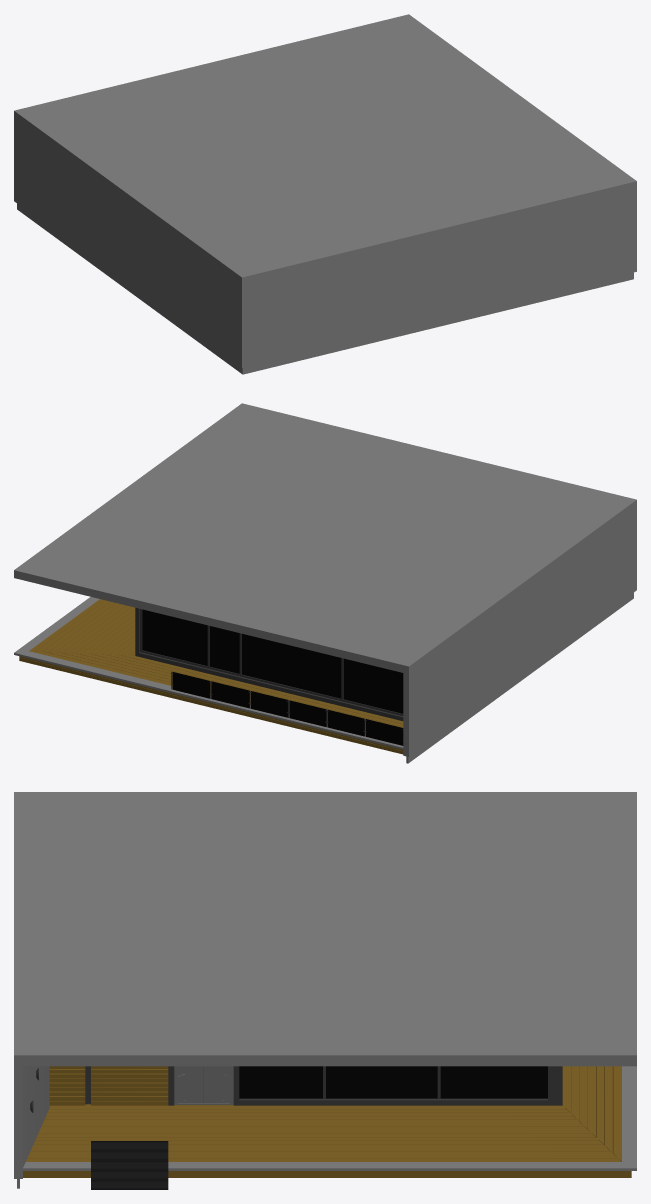
Rendered from SM_BuildingMK1_Base.fbx.
The picture shows the model from 3 angles, top to bottom: view 1: azimuth 30°, elevation 25°; view 2: azimuth 150°, elevation 25°; view 3: azimuth 270°, elevation 25°; orthographic projection. The views are drawn at different scales.
Visible parts, largest first — view 1: Base; view 2: Base; view 3: Base.
Part boxes in pixels (box(x1,y1,x2,y2)): Base: box(14, 14, 636, 374); Base: box(14, 403, 636, 763); Base: box(14, 792, 636, 1189).
Size of the model in its own units: 2100 by 500 by 2100.
